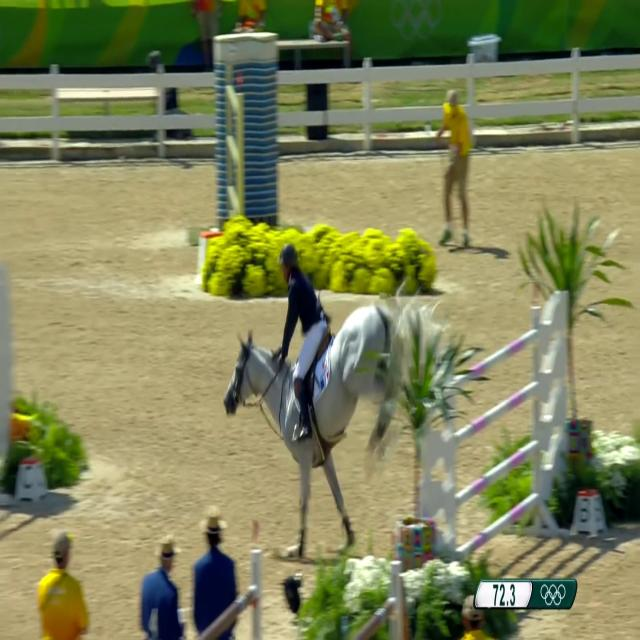Horse Jumping: (198, 210, 428, 558)
